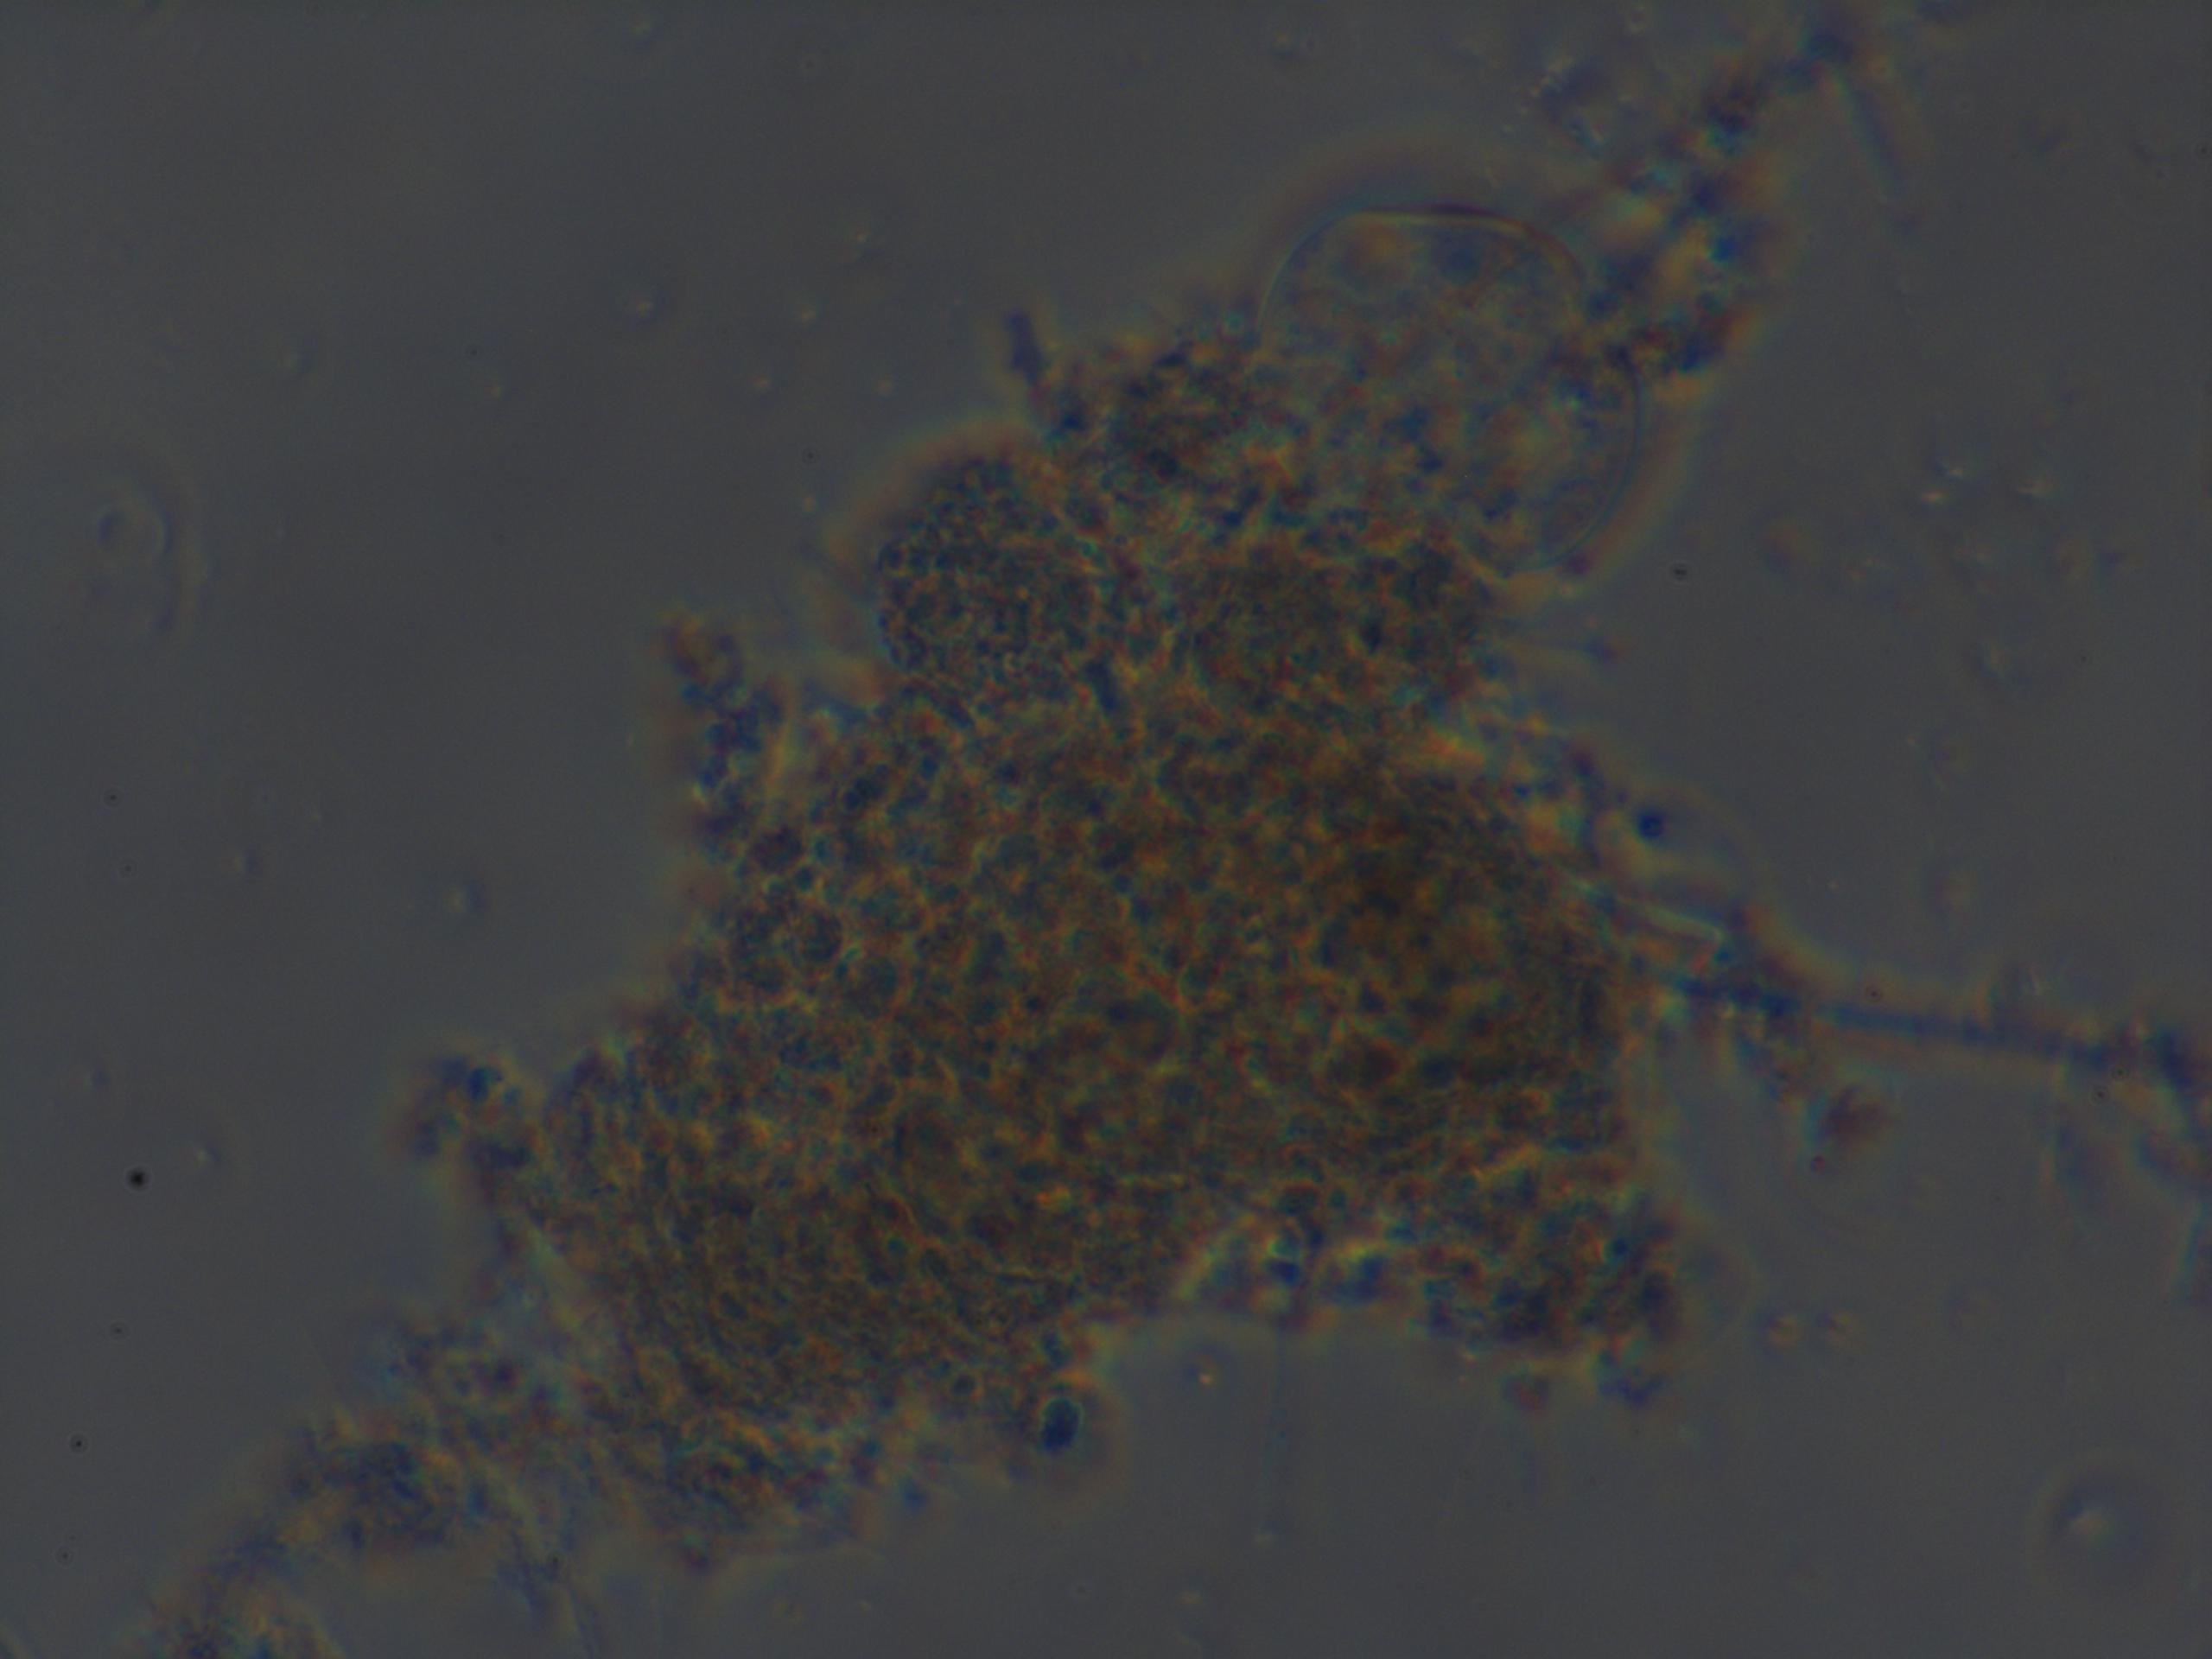filament: (1548, 887, 2212, 1145)
spherical_floc: (352, 687, 1707, 1534)
